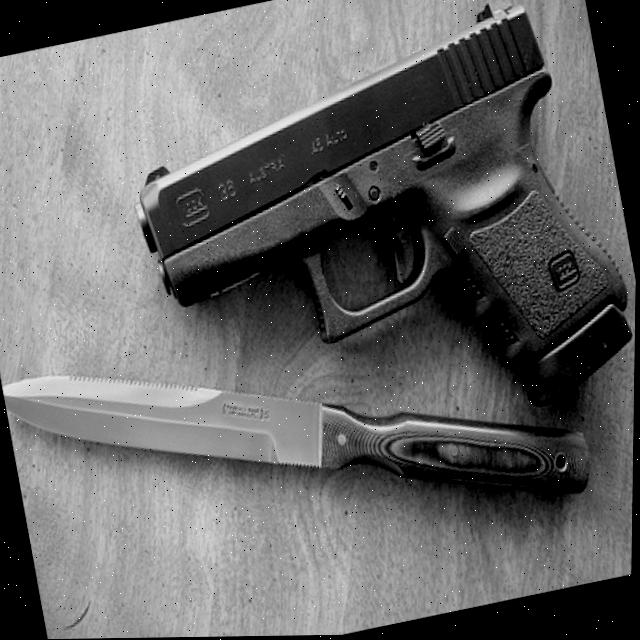knife: (0, 272, 599, 610)
pistol: (105, 0, 640, 483)
